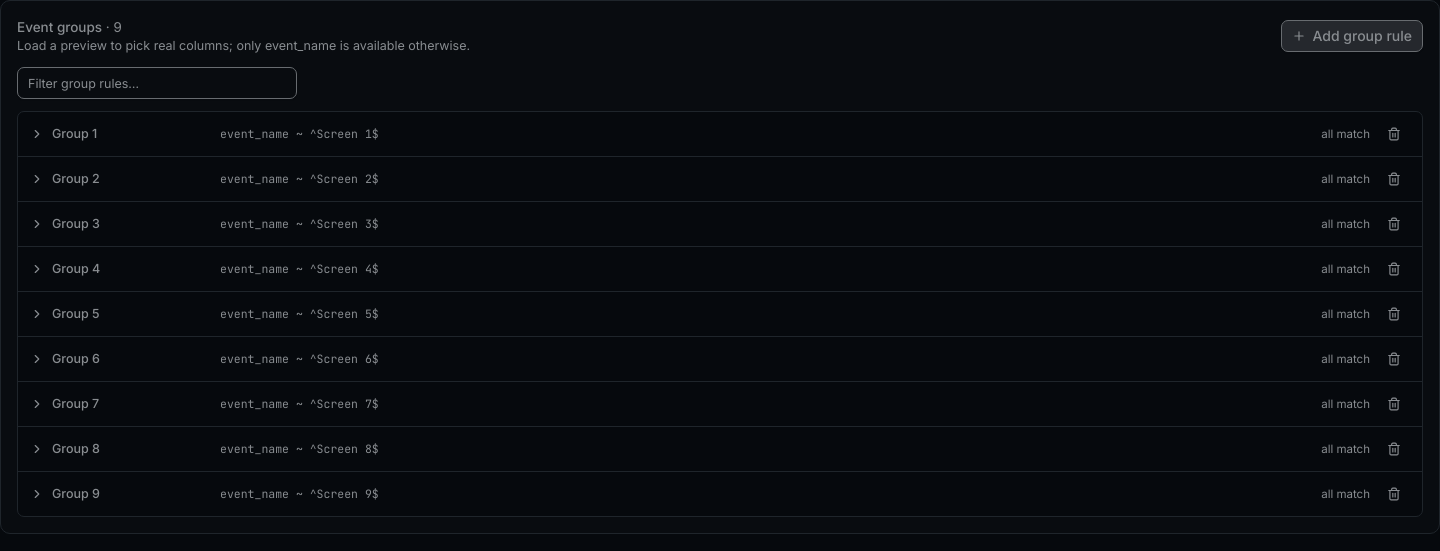
it: EventGroupRulesEditor — one line per rule (#247 DA-7) › offers a filter once there are more than eight rules
Step 1. Type "Screen 9" into the search field labelled "Filter group rules" → (157, 83), box [17,67,297,99]
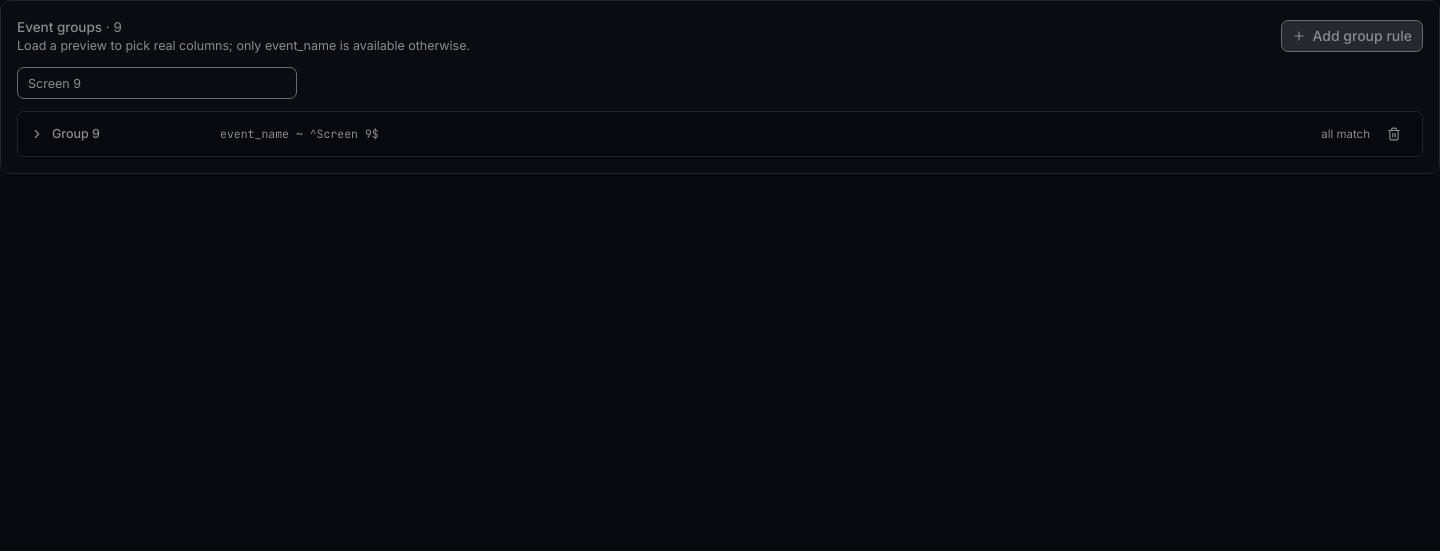
Expected: the text "Group 9" is shown, [52,126,100,141]
Now the button "Group 1" is gone
